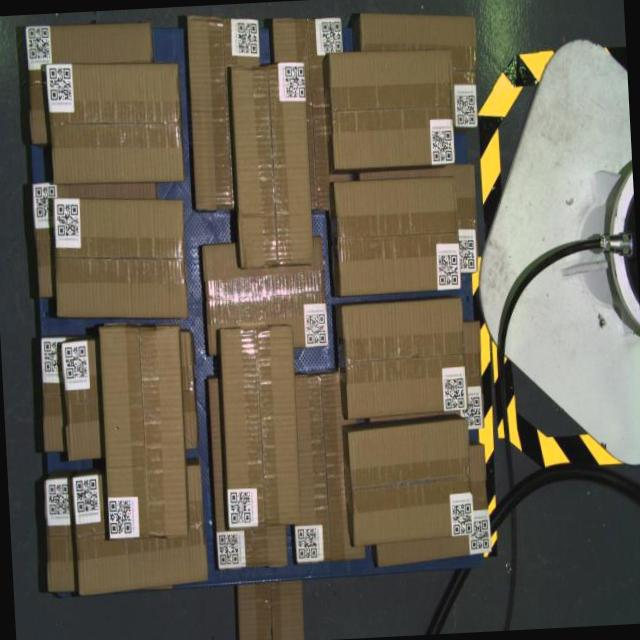box: (99, 323, 189, 541), (51, 191, 189, 325), (47, 58, 185, 189), (231, 62, 316, 269), (218, 325, 303, 530), (347, 419, 475, 545), (328, 46, 456, 170), (334, 176, 462, 296), (342, 298, 469, 418)
